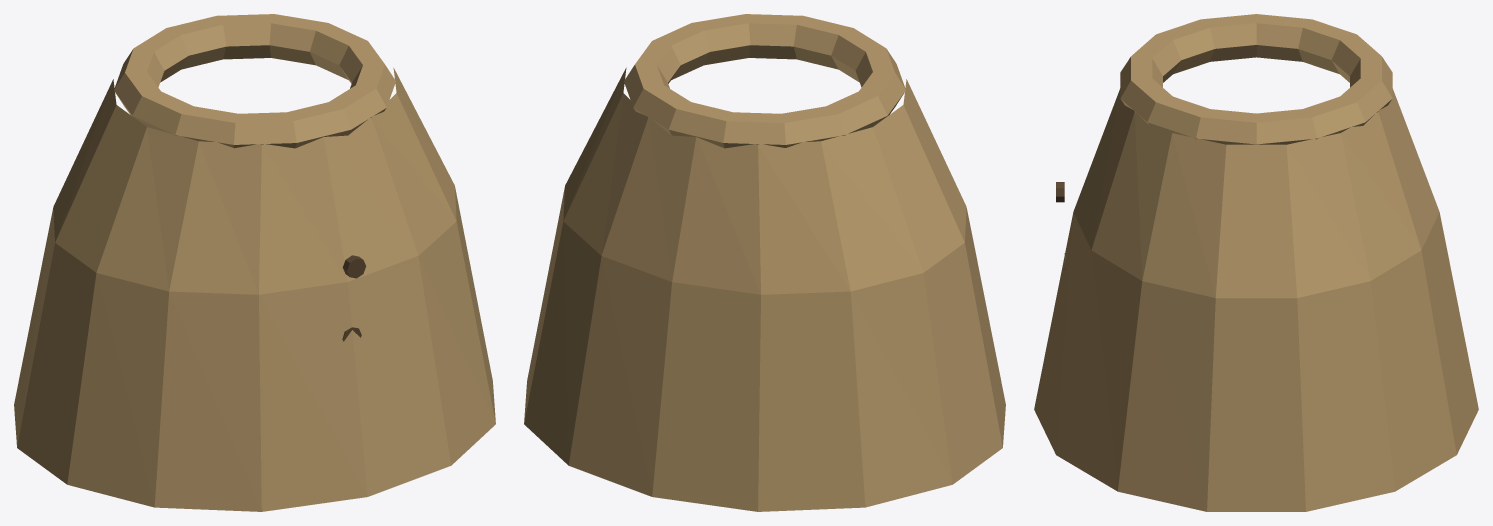
Rendered from disguise_coat.glb.
3 renders of one model, left to right at view 1: azimuth 30°, elevation 25°; view 2: azimuth 150°, elevation 25°; view 3: azimuth 270°, elevation 25°, orthographic.
Visible parts, largest first — view 1: coat_coat_beige, collar_coat_beige; view 2: coat_coat_beige, collar_coat_beige; view 3: coat_coat_beige, collar_coat_beige.
Boxes of the visible parts, left/top/right/bottom form: coat_coat_beige: left=14, top=67, right=495, bottom=511; collar_coat_beige: left=114, top=14, right=395, bottom=148; coat_coat_beige: left=524, top=67, right=1005, bottom=511; collar_coat_beige: left=624, top=14, right=905, bottom=148; coat_coat_beige: left=1034, top=88, right=1478, bottom=511; collar_coat_beige: left=1120, top=14, right=1392, bottom=144.
Bounding box in the file's own units: 1.11 × 0.8633 × 1.02.
